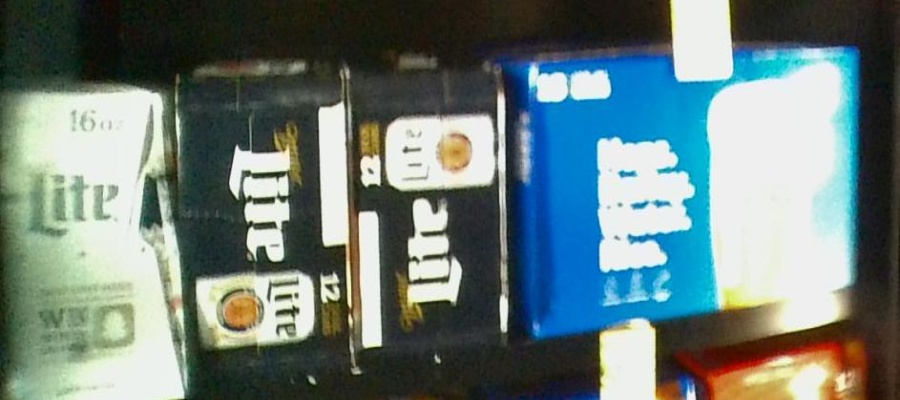bottle: (515, 48, 862, 297), (3, 88, 182, 396), (179, 71, 357, 379), (353, 61, 509, 354)
